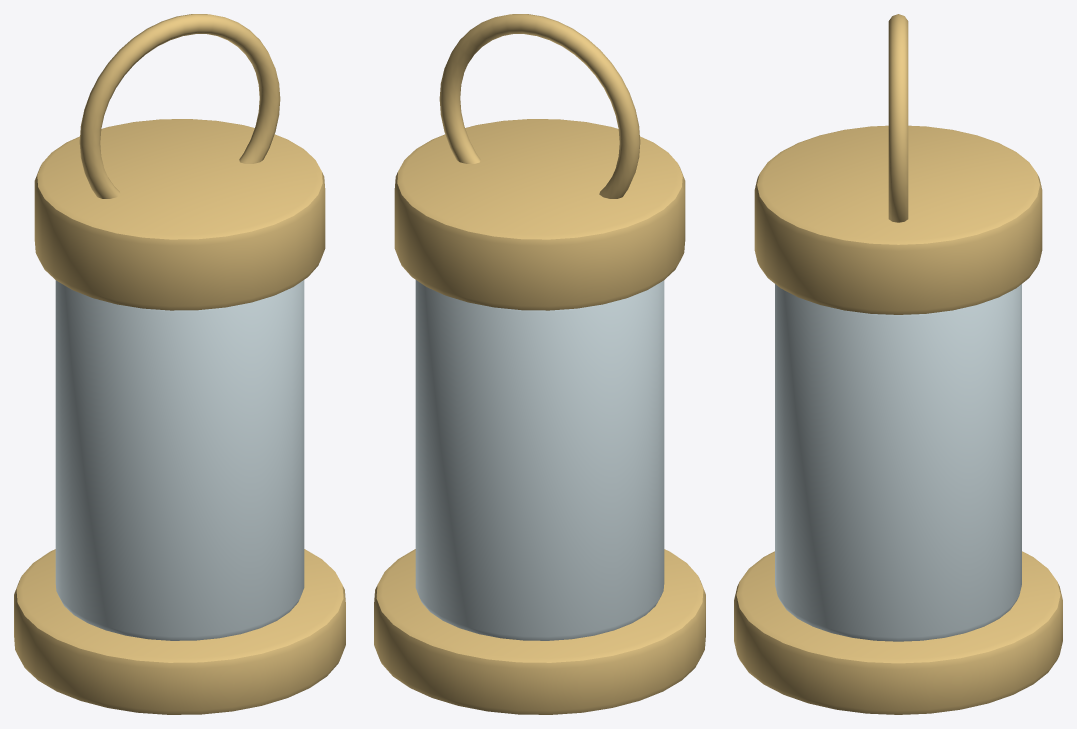
File: lantern.glb
The picture shows the model from 3 angles, left to right: view 1: azimuth 30°, elevation 25°; view 2: azimuth 150°, elevation 25°; view 3: azimuth 270°, elevation 25°; orthographic projection.
Parts seen in each view (by area): view 1: globe, cap, base, bail; view 2: globe, cap, base, bail; view 3: globe, cap, base, bail.
Boxes of the visible parts, x1,y1,x2,y2 form: globe: [55, 280, 304, 640]; cap: [34, 119, 325, 310]; base: [14, 549, 345, 714]; bail: [79, 14, 280, 198]; globe: [415, 280, 664, 640]; cap: [394, 119, 685, 310]; base: [374, 549, 705, 714]; bail: [439, 14, 640, 198]; globe: [775, 284, 1021, 641]; cap: [754, 125, 1042, 314]; base: [734, 551, 1062, 714]; bail: [888, 14, 908, 222].
Bounding box in the file's own units: 0.16 × 0.335 × 0.16.
